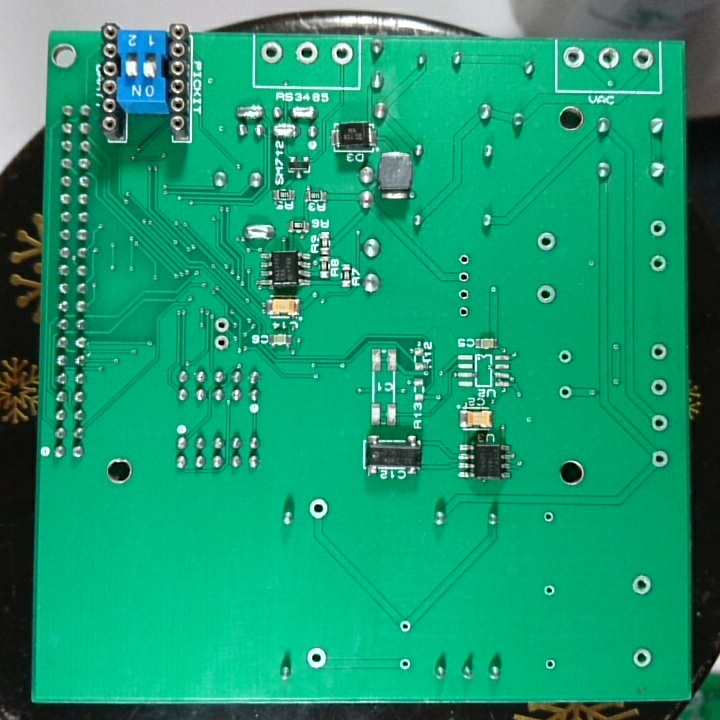F: (595, 44, 622, 73), (294, 39, 321, 67), (329, 40, 356, 68), (561, 43, 587, 72), (259, 39, 286, 66), (303, 643, 329, 671), (628, 572, 654, 598), (630, 45, 655, 72), (305, 497, 331, 522), (534, 229, 559, 255), (647, 340, 671, 365), (532, 283, 557, 307), (631, 644, 654, 669), (647, 215, 669, 240), (647, 252, 670, 275), (648, 411, 671, 433), (649, 448, 671, 470), (648, 375, 669, 398), (555, 347, 577, 368), (212, 333, 233, 353), (211, 315, 232, 335), (557, 383, 574, 403), (540, 508, 557, 527), (456, 303, 473, 322), (397, 618, 414, 636), (455, 250, 472, 268), (541, 583, 558, 600), (397, 655, 414, 672), (455, 269, 472, 286), (542, 656, 557, 673), (456, 286, 471, 303)
P: (241, 220, 277, 244), (232, 101, 267, 121), (271, 120, 301, 142), (288, 102, 321, 121)
